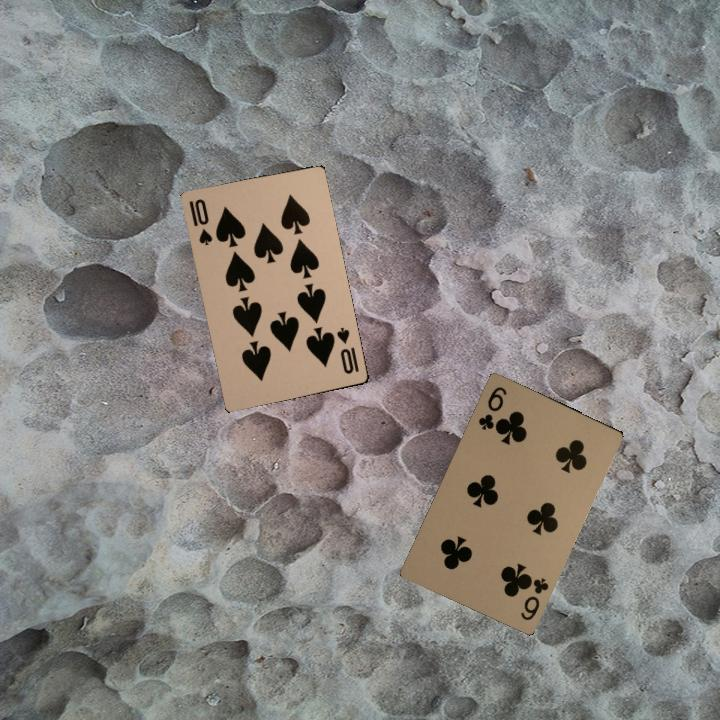10s: (185, 195, 215, 248), (333, 324, 361, 376)
6c: (474, 382, 509, 433), (516, 572, 551, 623)
